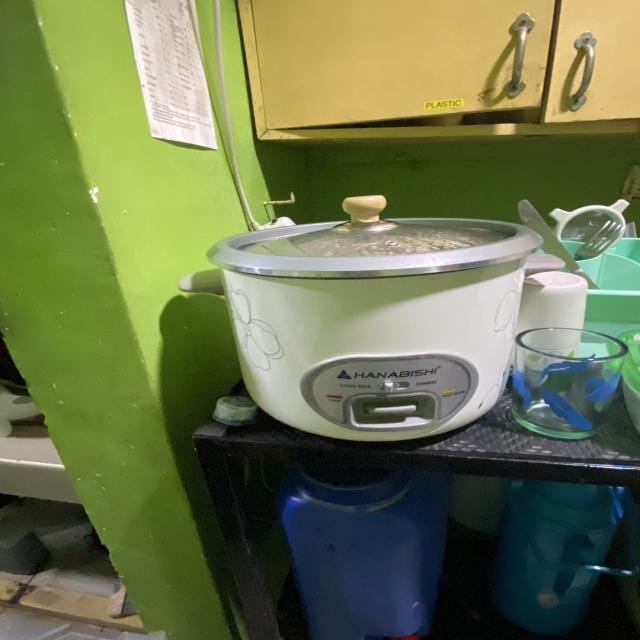appliances: (209, 196, 540, 440)
